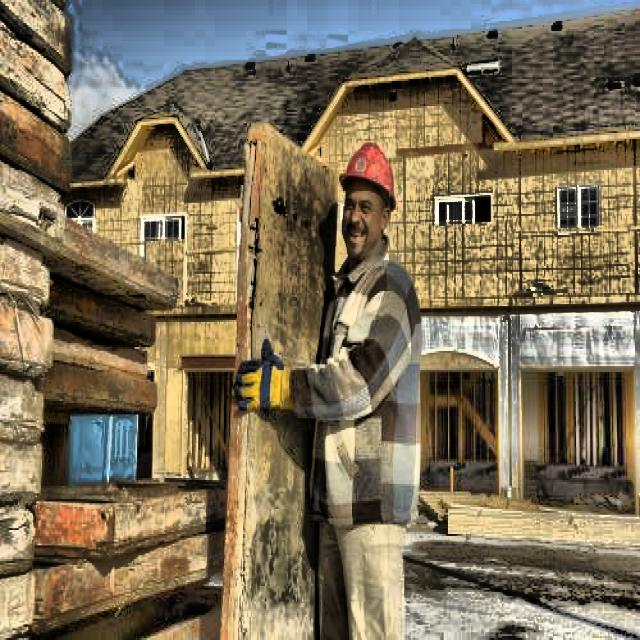helmet: (333, 133, 404, 260)
